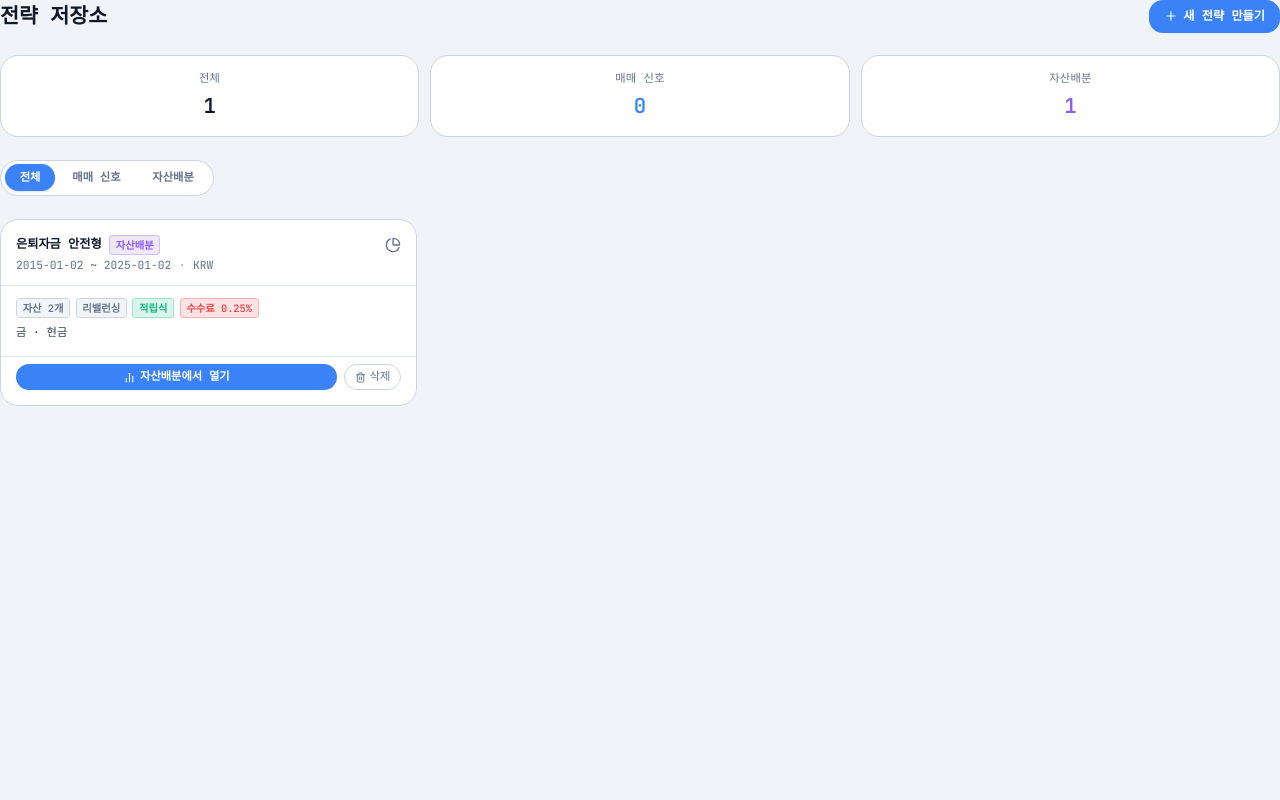
Scenario: 누르면 그 자산배분이 열린다 › 지우기 전에 무엇이 지워지는지 보여 준다
The width and height of the screenshot is (1280, 800).
Check: the text "은퇴자금 안전형" is shown, box [16,236,102,254]
Click the button with aria-label "은퇴자금 안전형 삭제" at {"x": 373, "y": 377}, box [344,364,401,390]
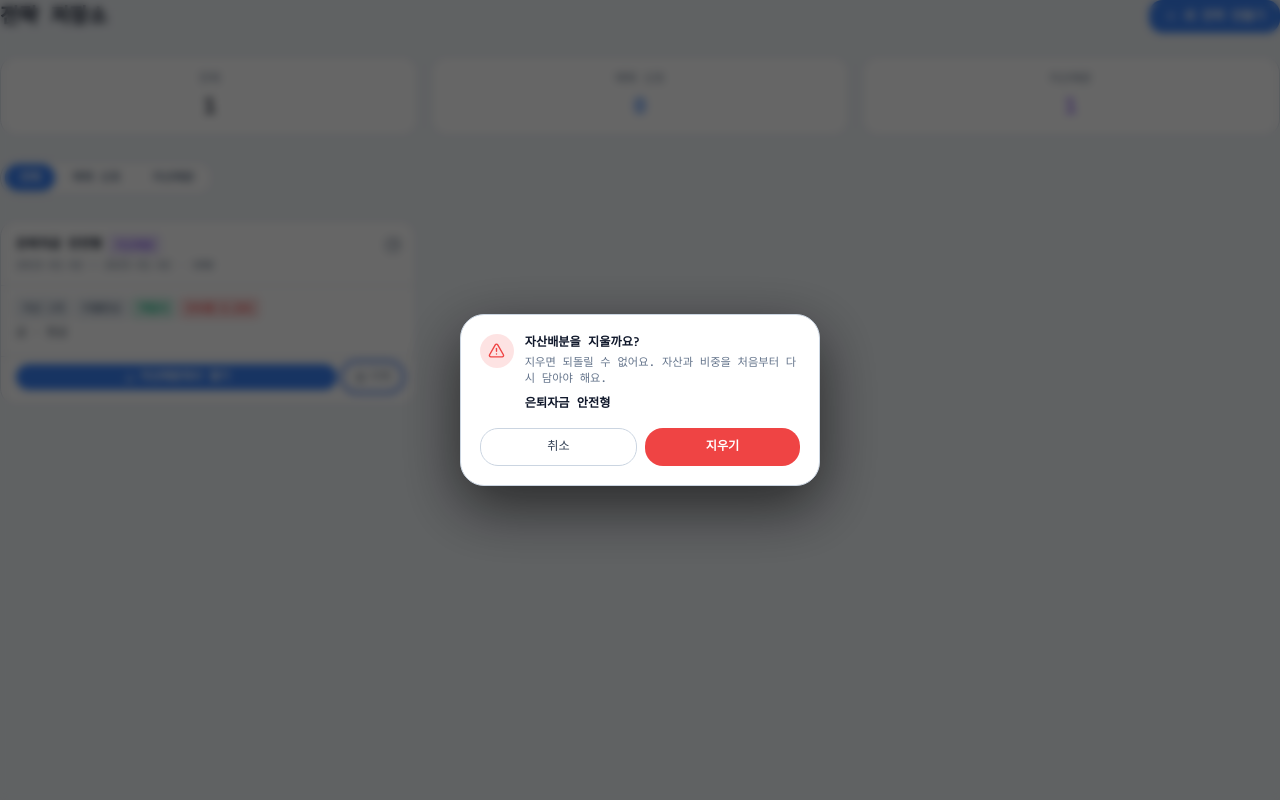
Check: the heading "자산배분을 지울까요?" is shown, box [525,334,640,350]
